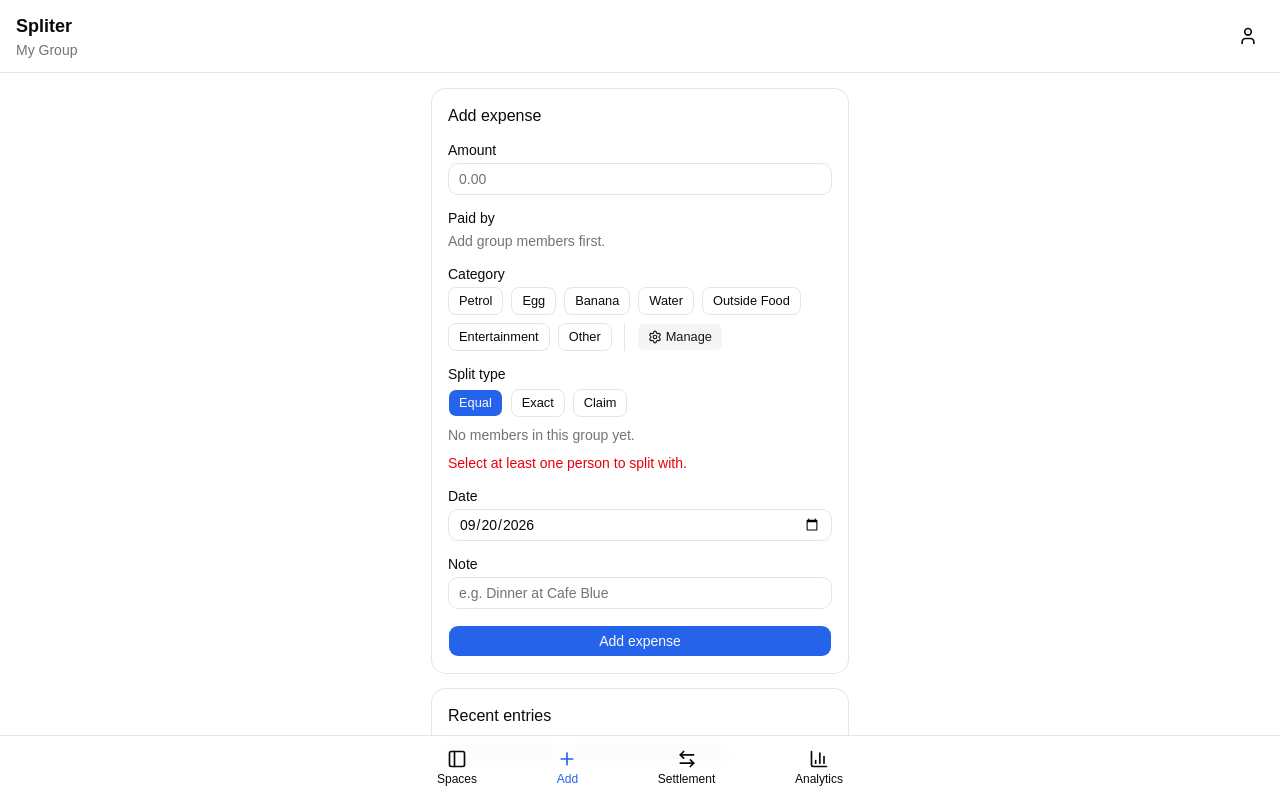
Test: AppShell › keeps every tab panel mounted, only toggling visibility (never unmounts on switch)
The image size is (1280, 800).
Expected: the text "My Group" is shown, [16,40,78,60]
Expected: the heading "Add expense" is shown, [448,107,541,124]
Click the button "Settlement" at (687, 768), box [645,740,728,796]
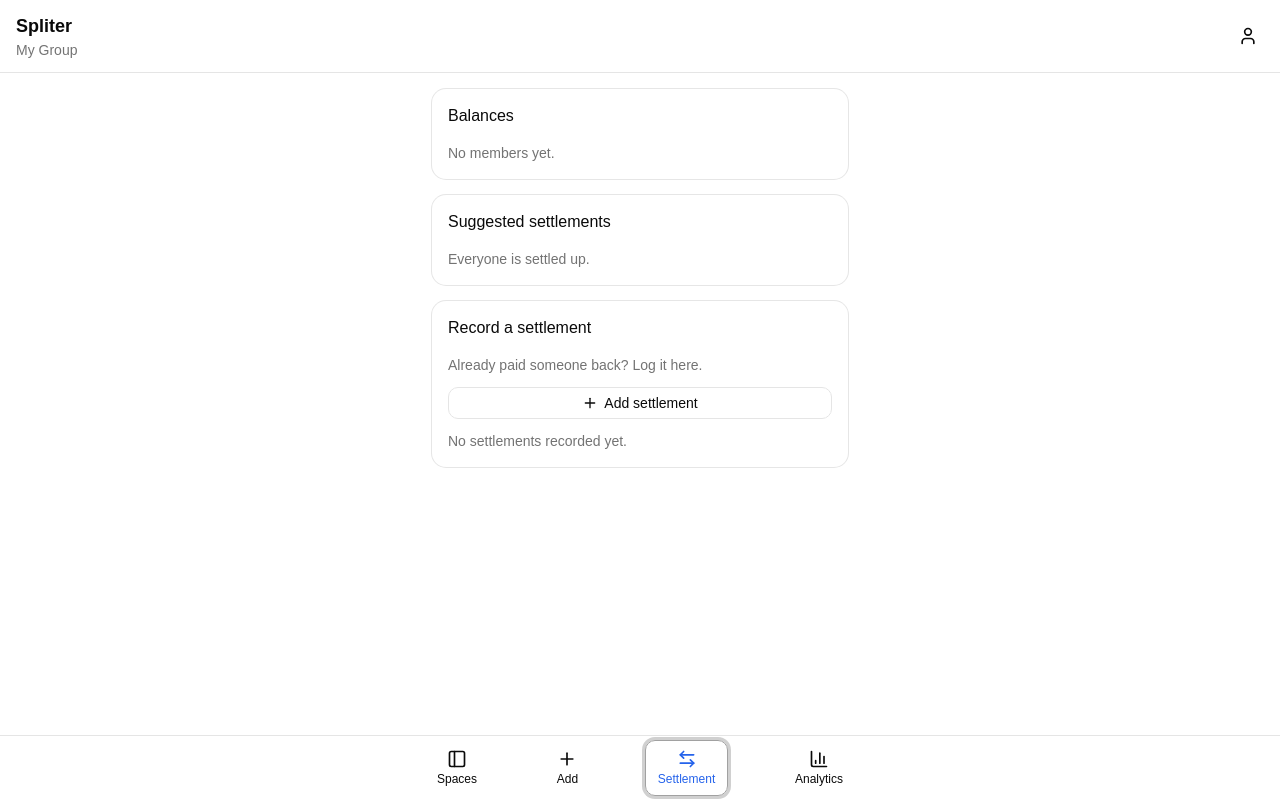
Expected: the heading "Balances" is shown, [448,107,514,124]
Expected: the heading "Add expense" is gone
